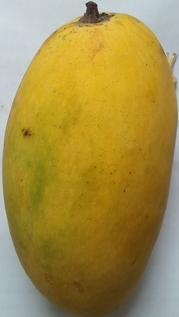Ripe: (1, 0, 179, 317)
